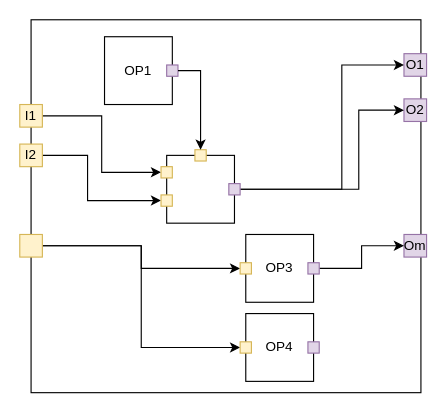
Image size: 446x412. Some labels were removed from this diagram. The centre of each missing label's shape, as x and y in pixels:
"In" belongs at (30,245).
"OP2" belongs at (200,188).
